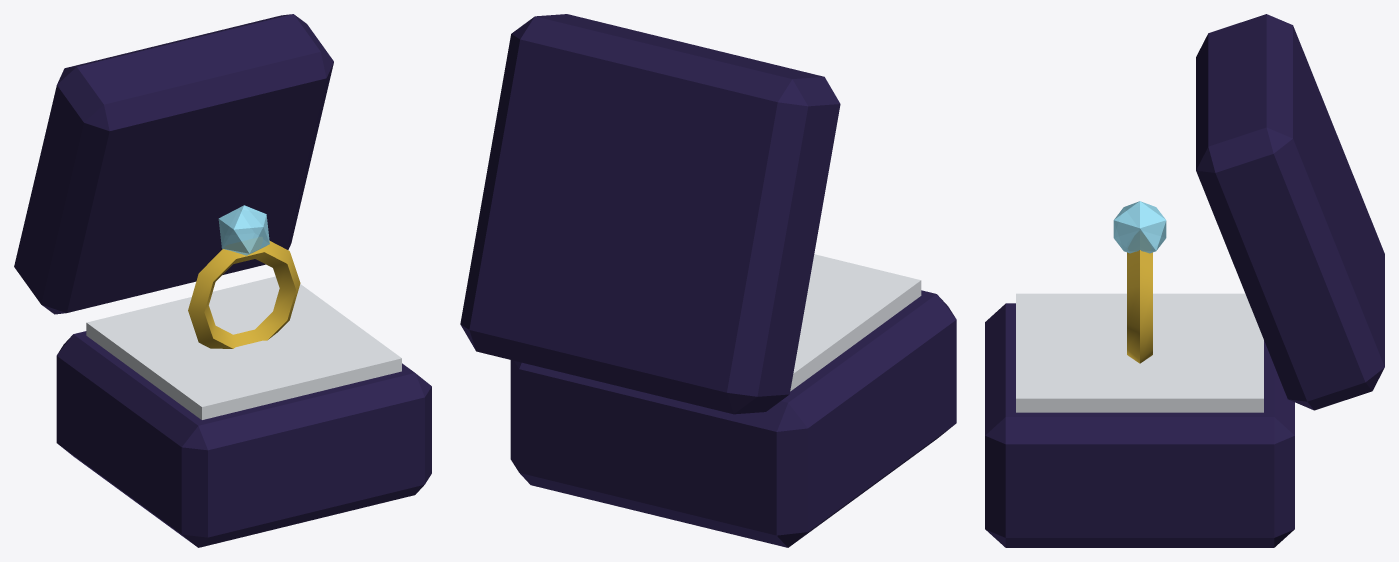
File: ring_box.glb
3 renders of one model, left to right at view 1: azimuth 30°, elevation 25°; view 2: azimuth 150°, elevation 25°; view 3: azimuth 270°, elevation 25°, orthographic. The views are drawn at different scales.
Parts seen in each view (by area): view 1: ring_box; view 2: ring_box; view 3: ring_box.
Part boxes in pixels (x1=…): ring_box: x1=14, y1=14, x2=431, y2=547; ring_box: x1=460, y1=14, x2=956, y2=547; ring_box: x1=985, y1=14, x2=1384, y2=547.
Bounding box in the file's own units: 0.06 × 0.0899 × 0.0774.
